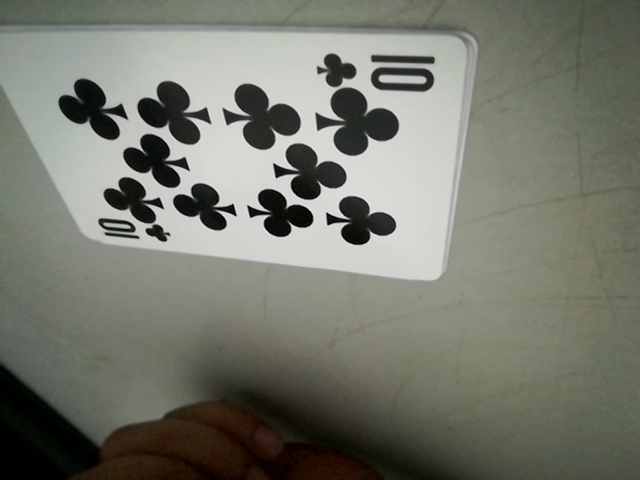mh 10: (317, 48, 449, 92), (89, 217, 173, 250)
